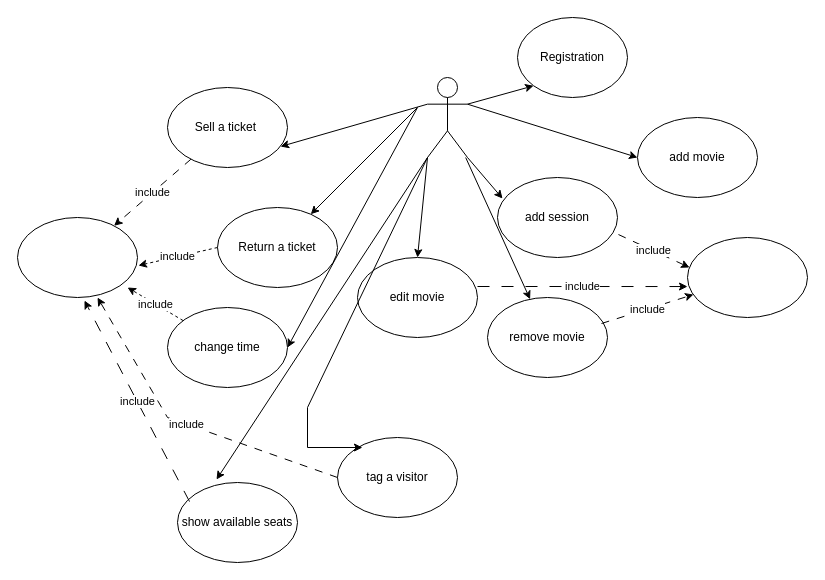
Image size: 825x580. Some labels were removed from this diagram. Each missing label, with the box of its shape:
Admin: (426, 76, 468, 158)
find movie by id: (686, 236, 808, 318)
find session by id: (16, 216, 138, 298)
